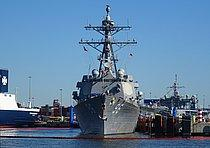MIL_Ship: (70, 3, 142, 137)
